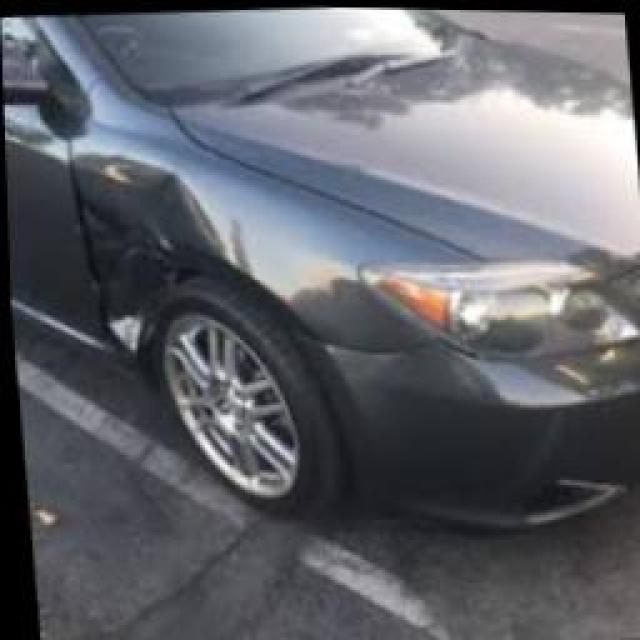replaceable: (52, 124, 214, 364)
